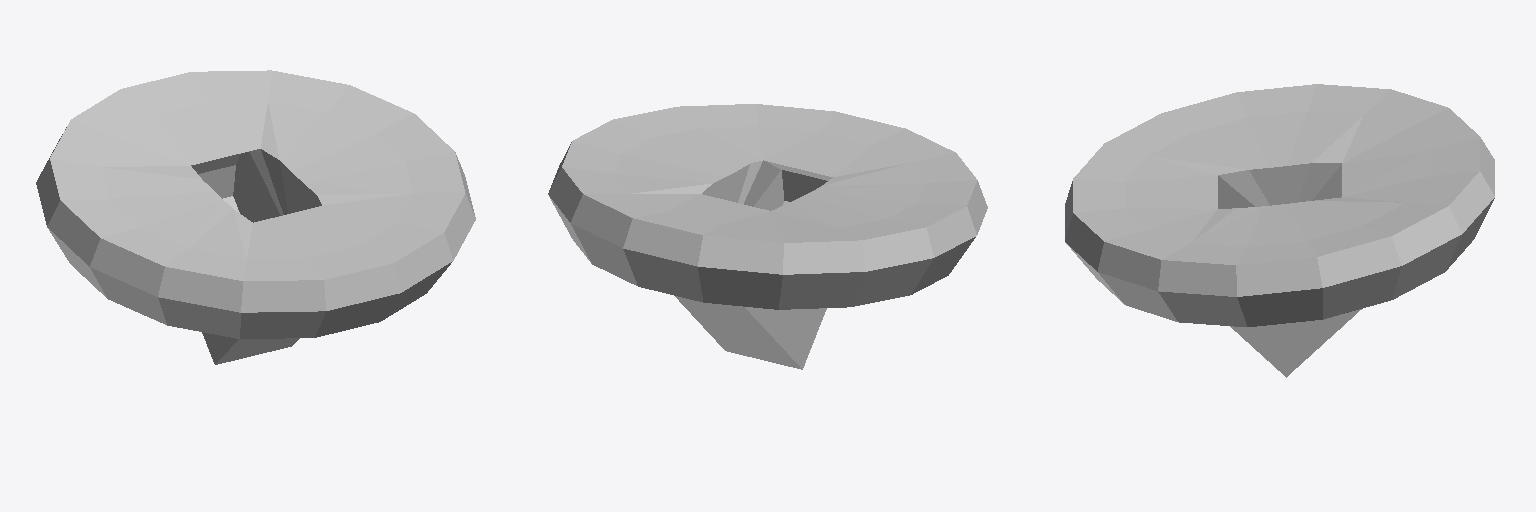
Rendered from trackpad_scroll_cut.obj.
3 renders of one model, left to right at view 1: azimuth 30°, elevation 25°; view 2: azimuth 150°, elevation 25°; view 3: azimuth 270°, elevation 25°, orthographic.
Parts seen in each view (by area): view 1: trackpad_scroll_cut1:polySurface1; view 2: trackpad_scroll_cut1:polySurface1; view 3: trackpad_scroll_cut1:polySurface1.
Boxes of the visible parts, box(x1,y1,x2,y2) form: trackpad_scroll_cut1:polySurface1: box(36, 70, 475, 364); trackpad_scroll_cut1:polySurface1: box(548, 104, 987, 369); trackpad_scroll_cut1:polySurface1: box(1065, 84, 1494, 377).
Bounding box in the file's own units: 0.042 × 0.0219 × 0.0417.